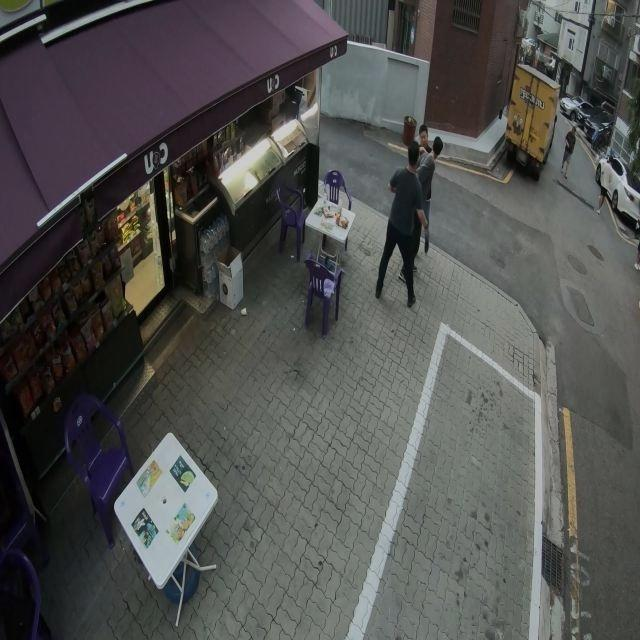fight: (400, 124, 444, 284)
non-fight: (375, 141, 428, 307), (560, 124, 576, 176)
